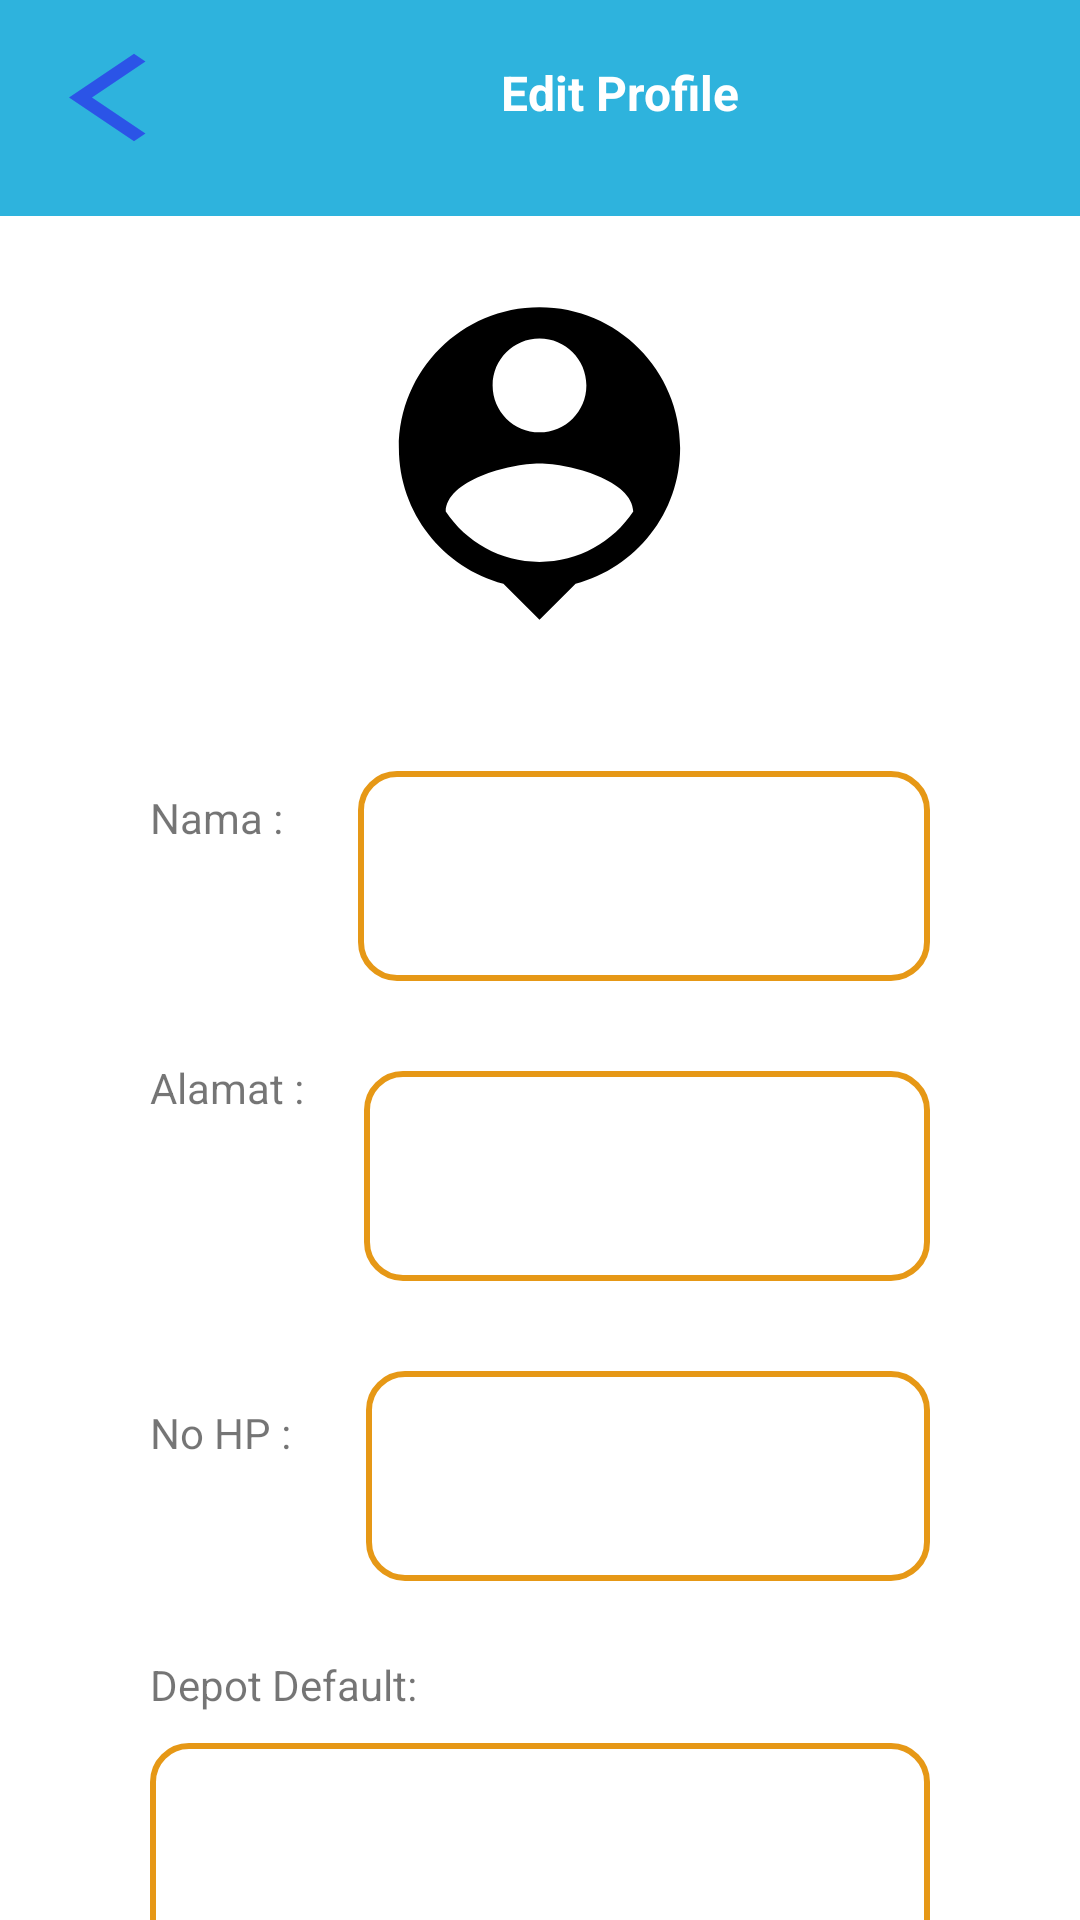

Point at icon controls on the screen. Image size 1080px×1920px, points as point (x, y).
arrow back: point (107, 97)
person pin: point (539, 463)
